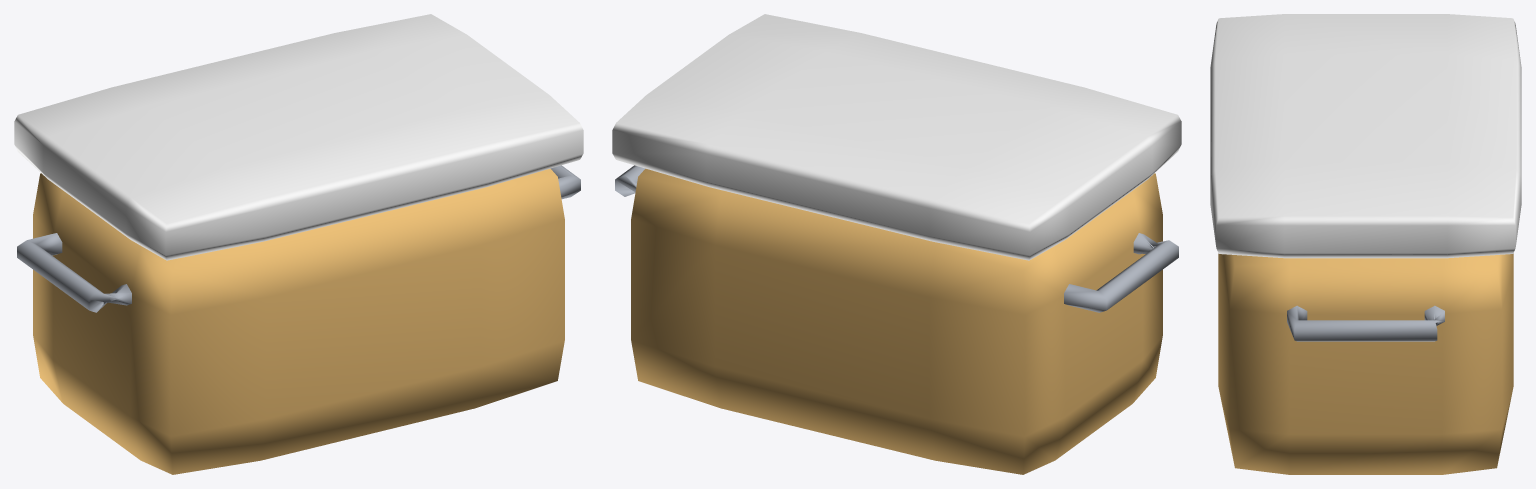
Rendered from PrimeCutCooler.obj.
The picture shows the model from 3 angles, left to right: view 1: azimuth 30°, elevation 25°; view 2: azimuth 150°, elevation 25°; view 3: azimuth 270°, elevation 25°; orthographic projection.
Parts seen in each view (by area): view 1: Body, Lid, Steel; view 2: Body, Lid, Steel; view 3: Lid, Body, Steel.
Part boxes in pixels (x1=…): Body: x1=33, y1=168, x2=564, y2=474; Lid: x1=14, y1=14, x2=583, y2=260; Steel: x1=17, y1=165, x2=580, y2=312; Body: x1=631, y1=168, x2=1162, y2=474; Lid: x1=612, y1=14, x2=1181, y2=260; Steel: x1=615, y1=165, x2=1178, y2=312; Lid: x1=1210, y1=14, x2=1521, y2=258; Body: x1=1218, y1=253, x2=1513, y2=474; Steel: x1=1287, y1=305, x2=1444, y2=341.
Size of the model in its own units: 5.7 by 3.16 by 3.16.
